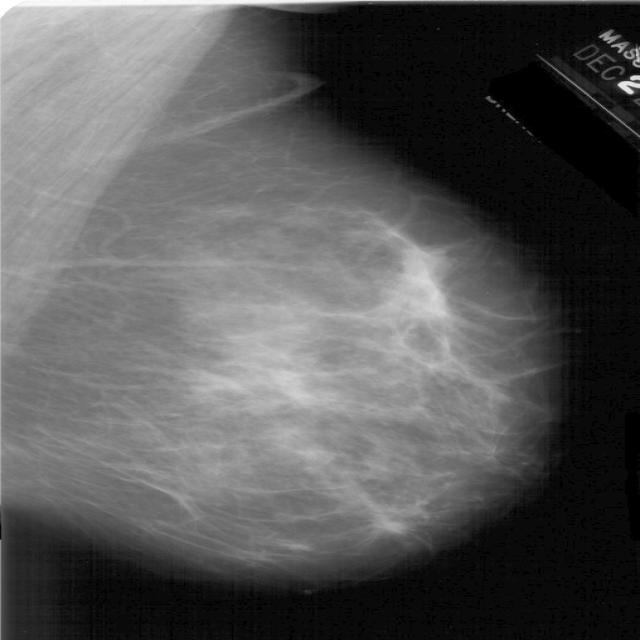tumour: (393, 242, 447, 308)
